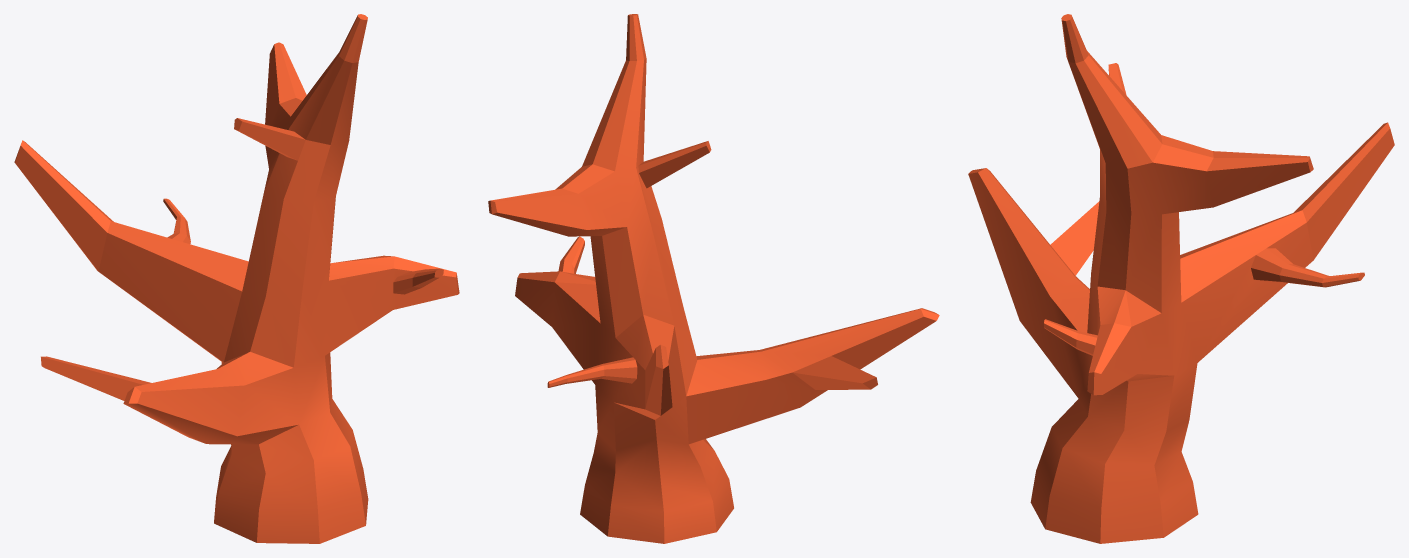
The model's file is Coral_Stem_01.fbx.
The picture shows the model from 3 angles, left to right: view 1: azimuth 30°, elevation 25°; view 2: azimuth 150°, elevation 25°; view 3: azimuth 270°, elevation 25°; orthographic projection. The views are drawn at different scales.
Visible parts, largest first — view 1: Model; view 2: Model; view 3: Model.
Part boxes in pixels (x1=…): Model: x1=14, y1=14, x2=459, y2=543; Model: x1=488, y1=14, x2=939, y2=543; Model: x1=968, y1=14, x2=1394, y2=543.
Bounding box in the file's own units: 77.97 × 93.11 × 69.64.
